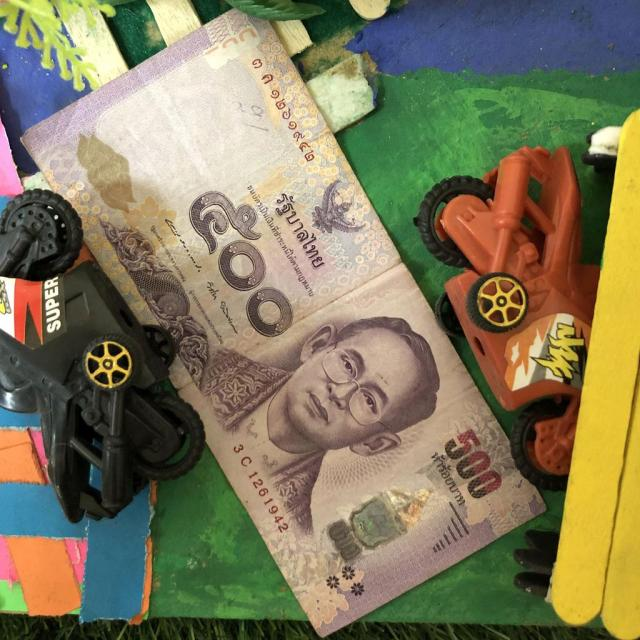THAI500: (21, 10, 546, 635)
